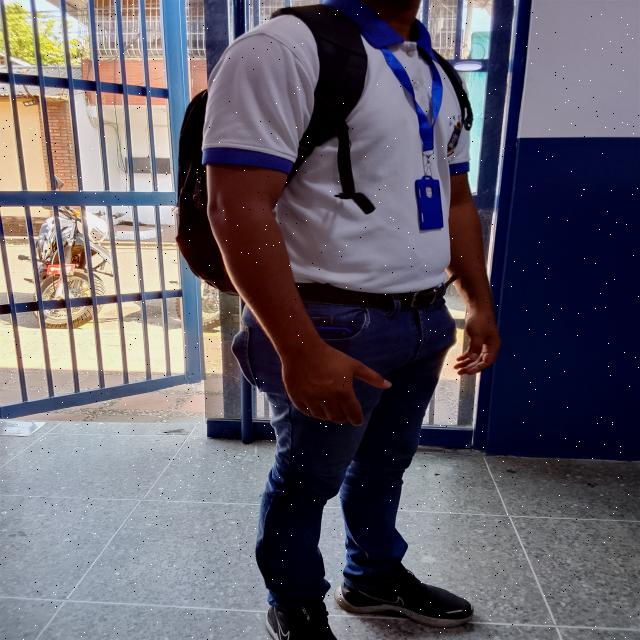carnet: (414, 179, 444, 231)
uniforme_superior: (200, 0, 470, 294)
